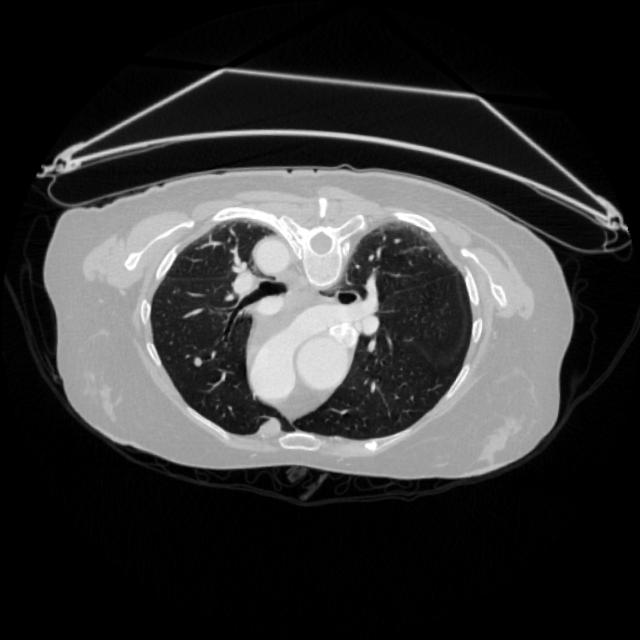nodule: (186, 349, 210, 374)
